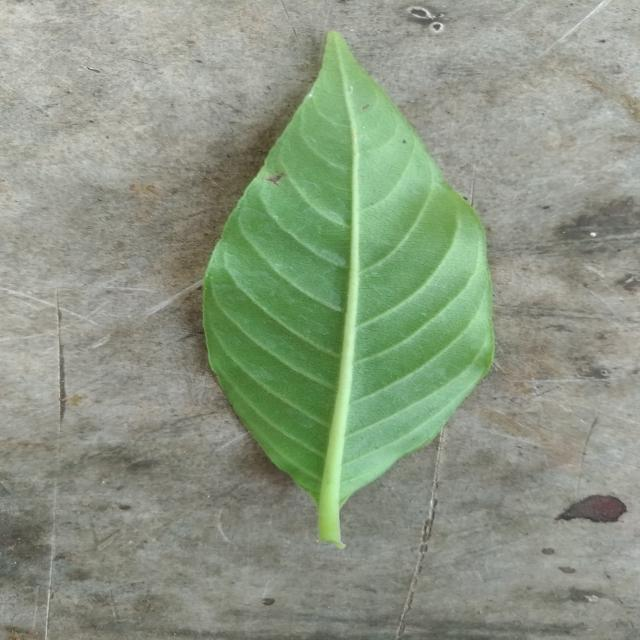malabar_nut: (204, 32, 493, 544)
